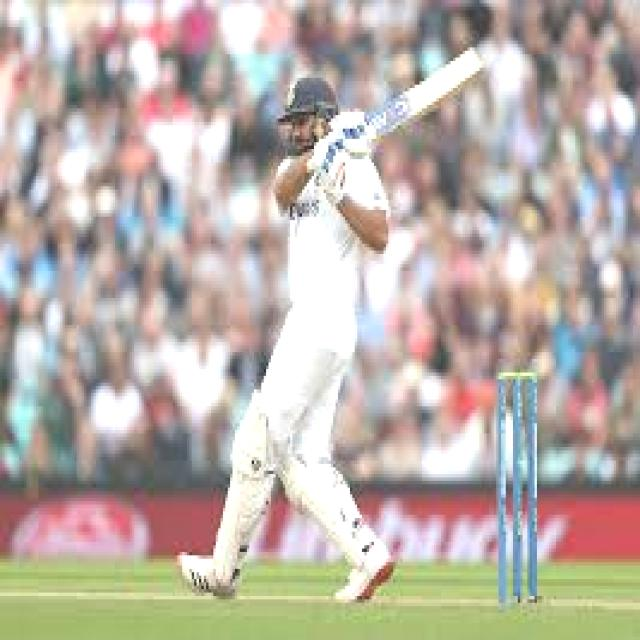toe: (466, 44, 484, 72)
